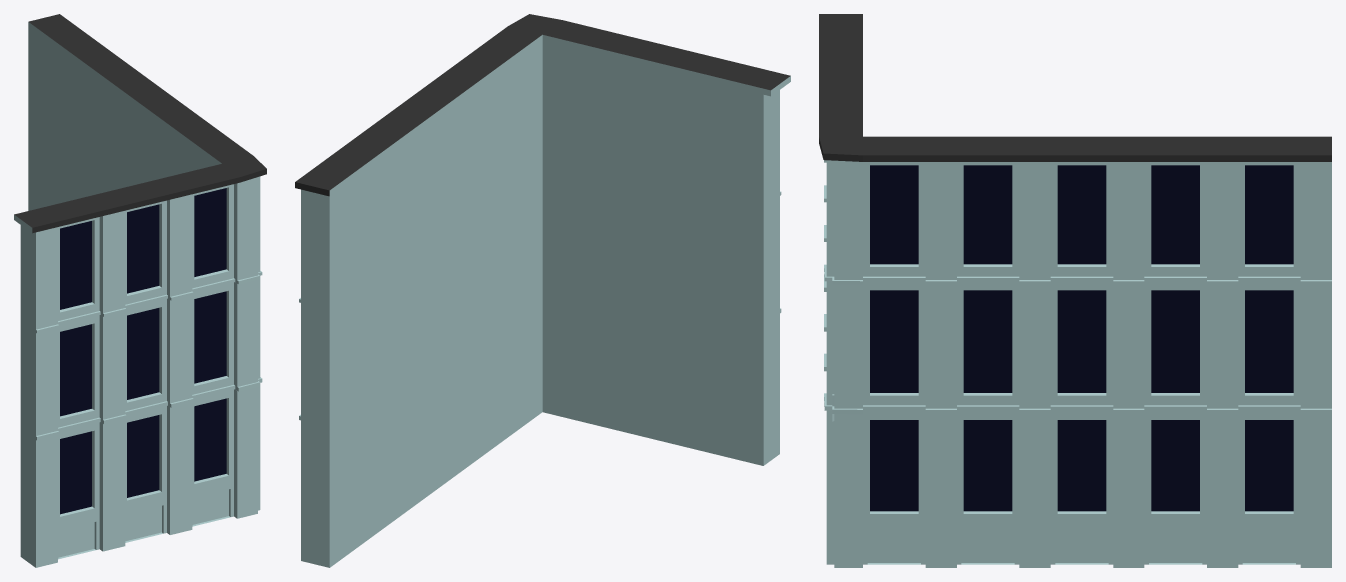
File: building_forward_left.fbx
3 views of the same model, side by side, from view 1: azimuth 30°, elevation 25°; view 2: azimuth 150°, elevation 25°; view 3: azimuth 270°, elevation 25° (orthographic). The views are drawn at different scales.
Visible parts, largest first — view 1: Cube; view 2: Cube; view 3: Cube.
Part boxes in pixels (box(x1,y1,x2,y2)): Cube: box(14, 14, 266, 567); Cube: box(295, 14, 790, 567); Cube: box(819, 14, 1331, 567).
Bounding box in the file's own units: 1465 × 1310 × 955.
